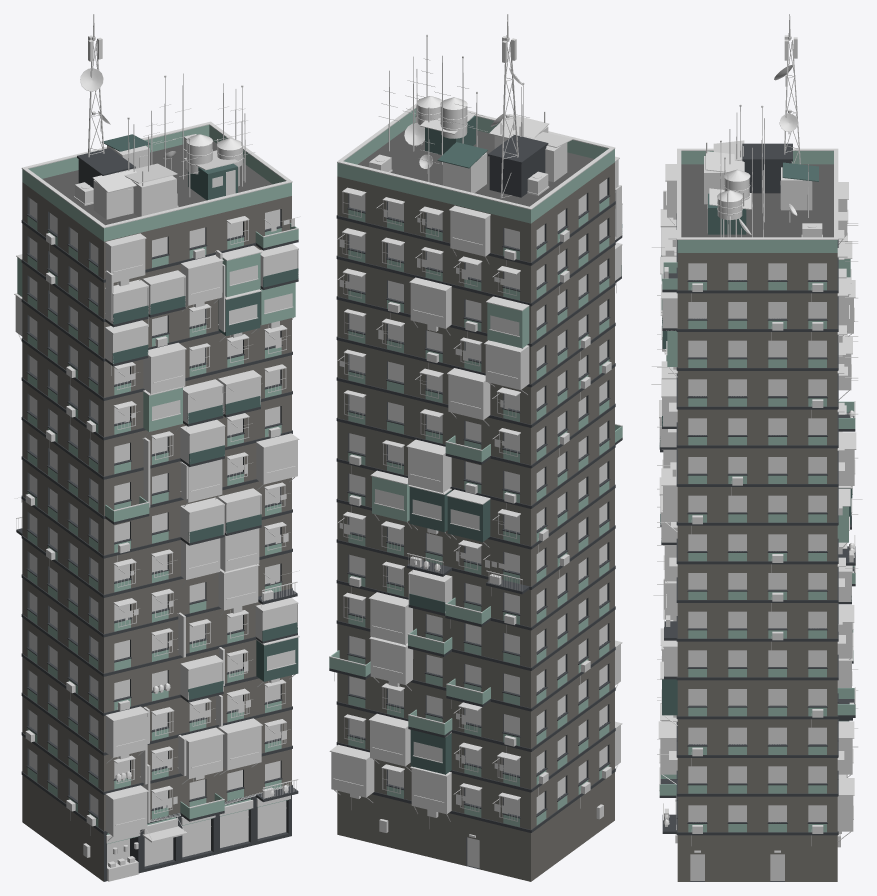
File: LB_KS_Tenement_B.fbx
3 views of the same model, side by side, from view 1: azimuth 30°, elevation 25°; view 2: azimuth 150°, elevation 25°; view 3: azimuth 270°, elevation 25° (orthographic). The views are drawn at different scales.
Parts seen in each view (by area): view 1: LB_KS_Tenement_B_LOD0; view 2: LB_KS_Tenement_B_LOD0; view 3: LB_KS_Tenement_B_LOD0.
Part boxes in pixels (x1,y1,x2,y2): LB_KS_Tenement_B_LOD0: (14,14,300,881); LB_KS_Tenement_B_LOD0: (329,14,622,881); LB_KS_Tenement_B_LOD0: (651,14,862,881).
Size of what is drawn, in the model's own units: 16.73 by 66.16 by 15.82.
